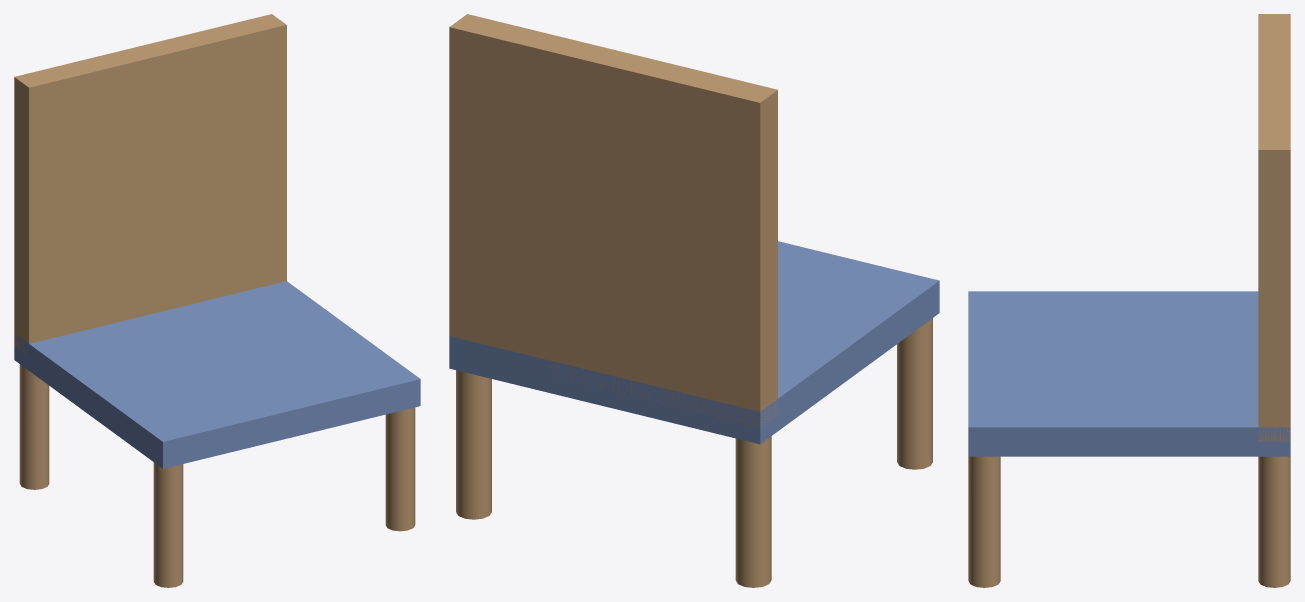
File: chair_module.glb
The picture shows the model from 3 angles, left to right: view 1: azimuth 30°, elevation 25°; view 2: azimuth 150°, elevation 25°; view 3: azimuth 270°, elevation 25°; orthographic projection. The views are drawn at different scales.
Visible parts, largest first — view 1: slab (×2), leg (×3); view 2: slab (×2), leg (×3); view 3: slab (×2), leg (×2).
Boxes of the visible parts, <box> form: slab (×2): <box>14,14,420,468</box>; leg (×3): <box>19,364,415,587</box>; slab (×2): <box>449,14,939,444</box>; leg (×3): <box>456,318,932,587</box>; slab (×2): <box>968,14,1290,456</box>; leg (×2): <box>968,456,1290,587</box>.
Bounding box in the file's own units: 1 × 1.5 × 1.
